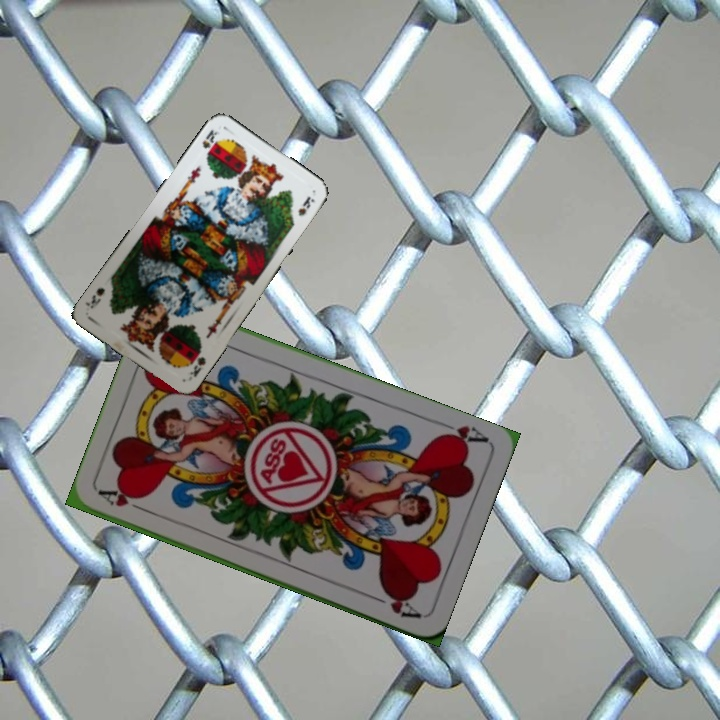HA: (432, 419, 491, 450), (95, 486, 152, 516)
SK: (184, 353, 209, 384), (198, 125, 222, 151)
